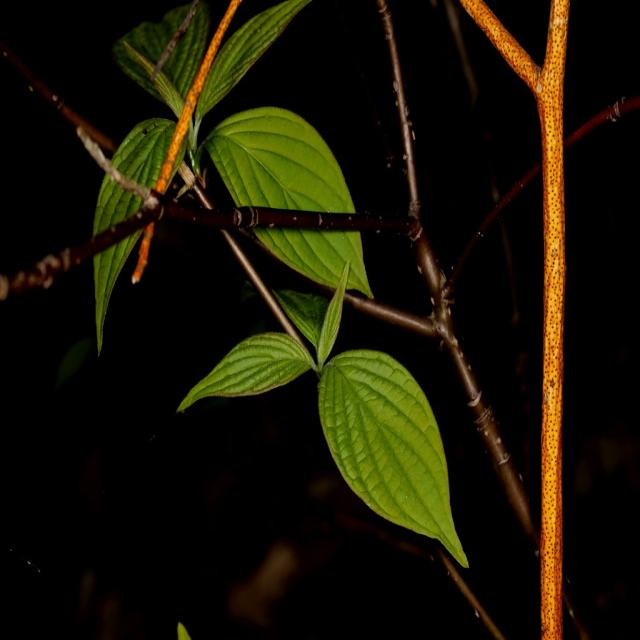Golden_canker: (458, 0, 570, 638), (129, 0, 241, 286)
